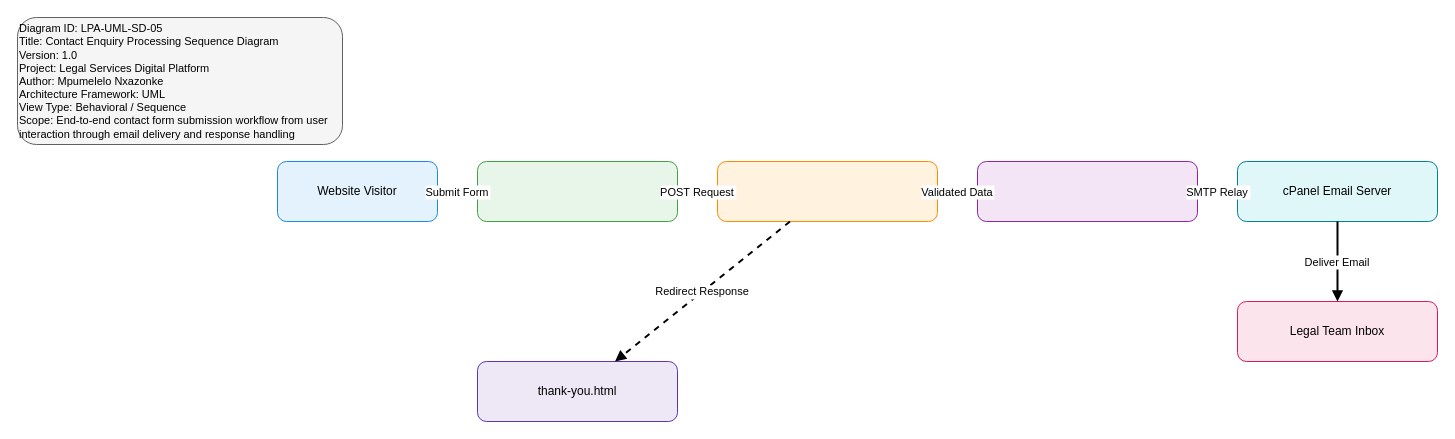
The diagram is 1455 pixels wide and 439 high, and some of its shapes have lost their labels. Each missing label, with the box of its shape:
contact.php (Validation Layer): (716, 160, 938, 222)
Frontend Contact Form: (476, 160, 678, 222)
SMTP / PHPMailer Handler: (976, 160, 1198, 222)
